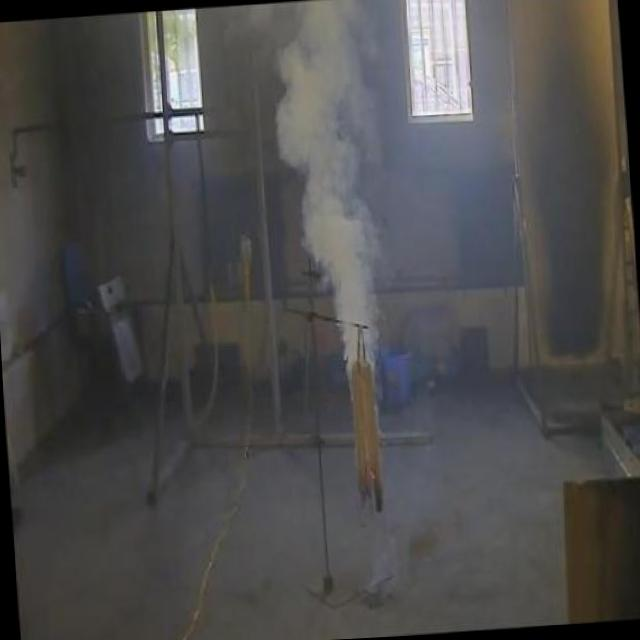smoke: (258, 0, 416, 391)
